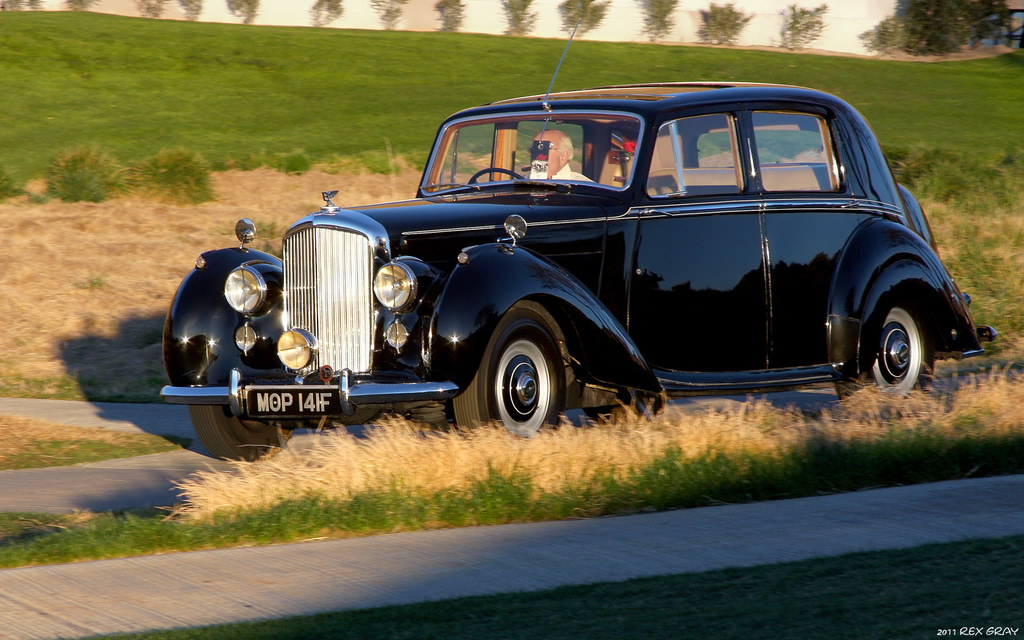cars: (157, 82, 991, 439)
